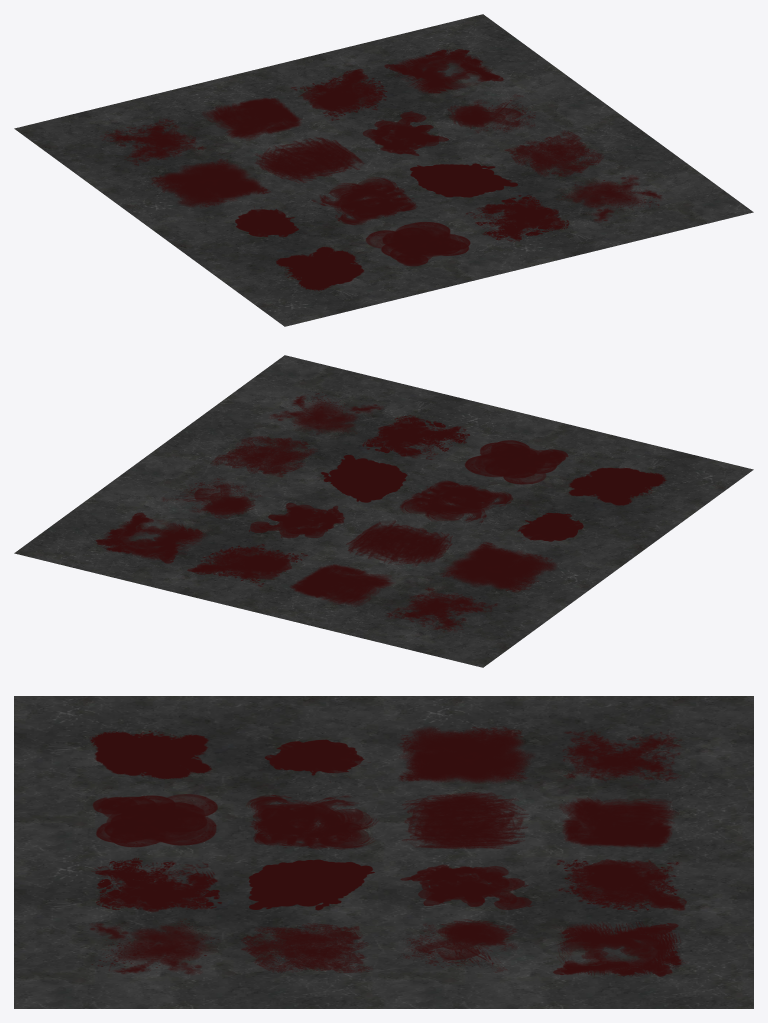
The model's file is pool_of_blood_low_poly_planes.glb.
3 renders of one model, top to bottom at view 1: azimuth 30°, elevation 25°; view 2: azimuth 150°, elevation 25°; view 3: azimuth 270°, elevation 25°, orthographic. The views are drawn at different scales.
Visible parts, largest first — view 1: Floor_Demo_Demo_Floor_Material_0, Puddle_Type_16_00_Puddle_Material_0; view 2: Floor_Demo_Demo_Floor_Material_0, Puddle_Type_16_00_Puddle_Material_0; view 3: Floor_Demo_Demo_Floor_Material_0, Puddle_Type_16_00_Puddle_Material_0.
Boxes of the visible parts, x1=… form: Floor_Demo_Demo_Floor_Material_0: x1=14, y1=14, x2=753, y2=326; Puddle_Type_16_00_Puddle_Material_0: x1=100, y1=49, x2=661, y2=291; Floor_Demo_Demo_Floor_Material_0: x1=14, y1=355, x2=753, y2=667; Puddle_Type_16_00_Puddle_Material_0: x1=95, y1=392, x2=666, y2=632; Floor_Demo_Demo_Floor_Material_0: x1=14, y1=696, x2=753, y2=1008; Puddle_Type_16_00_Puddle_Material_0: x1=90, y1=726, x2=686, y2=976.
Size of the model in its own units: 0.25 by 6.14e-05 by 0.25.
2 materials, 2 textured.
